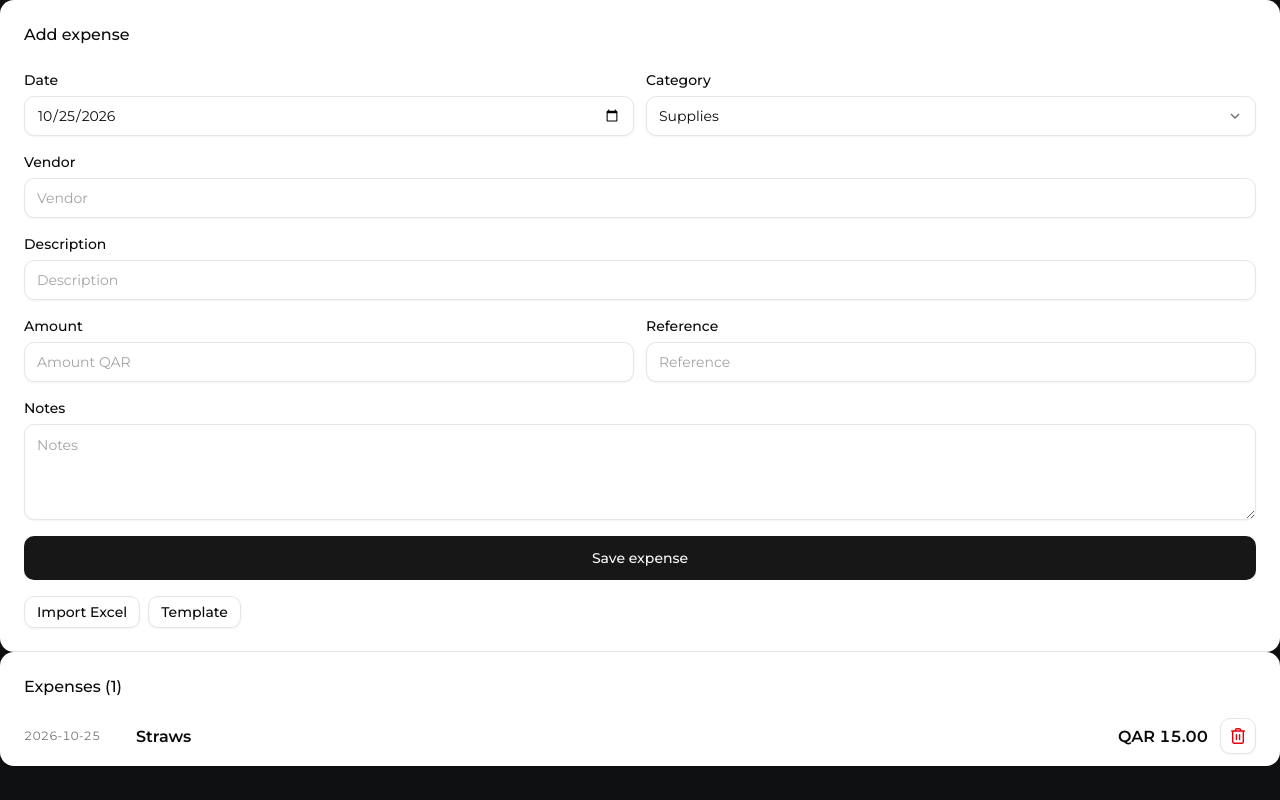
Test case: ExpensesPanel › deletes an expense once the delete is confirmed
expect the heading "Expenses (1)" is shown: met, box [24, 676, 122, 698]
Click the button named "Delete" at (1238, 736), box [1220, 718, 1256, 754]
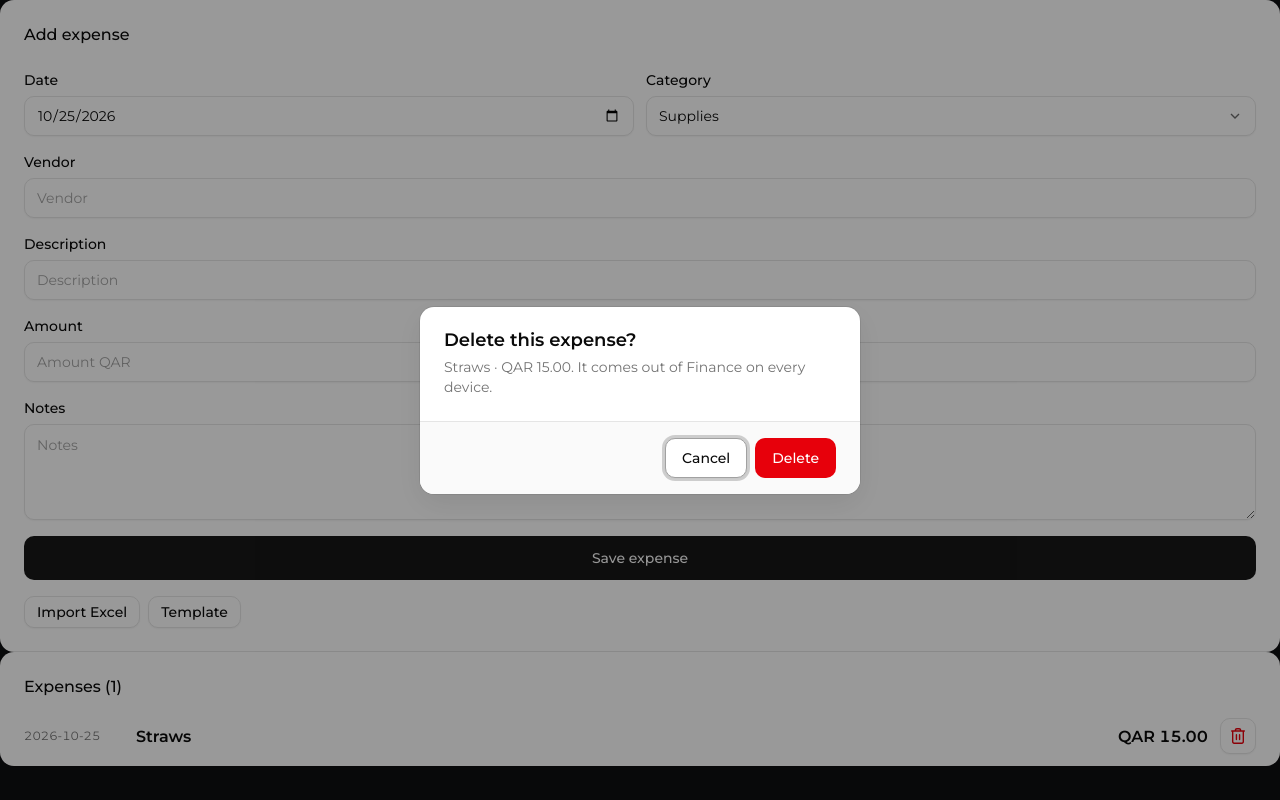
expect the dialog "Delete this expense?" shows "Straws · QAR 15.00": met, box [444, 358, 805, 396]
Click the button "Delete" at (796, 458), box [755, 438, 836, 478]
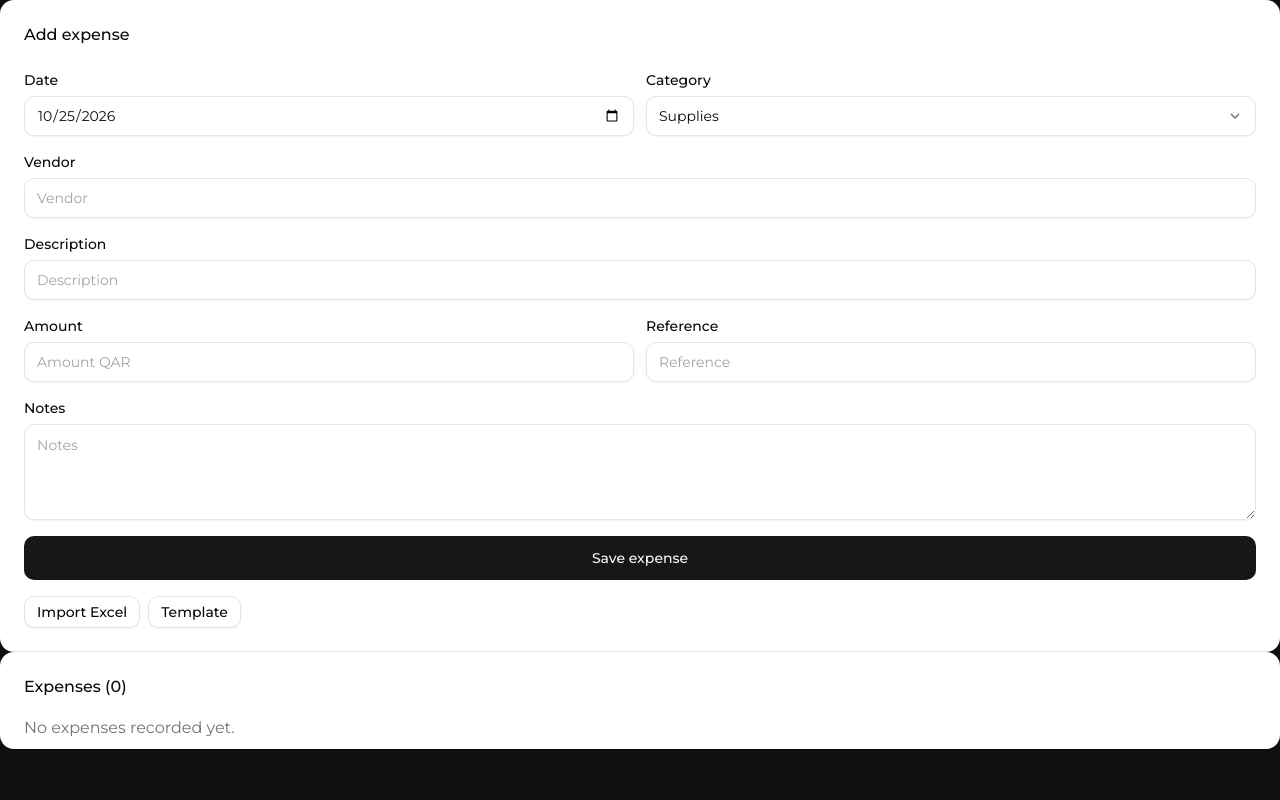
expect the heading "Expenses (0)" is shown: met, box [24, 676, 127, 698]
